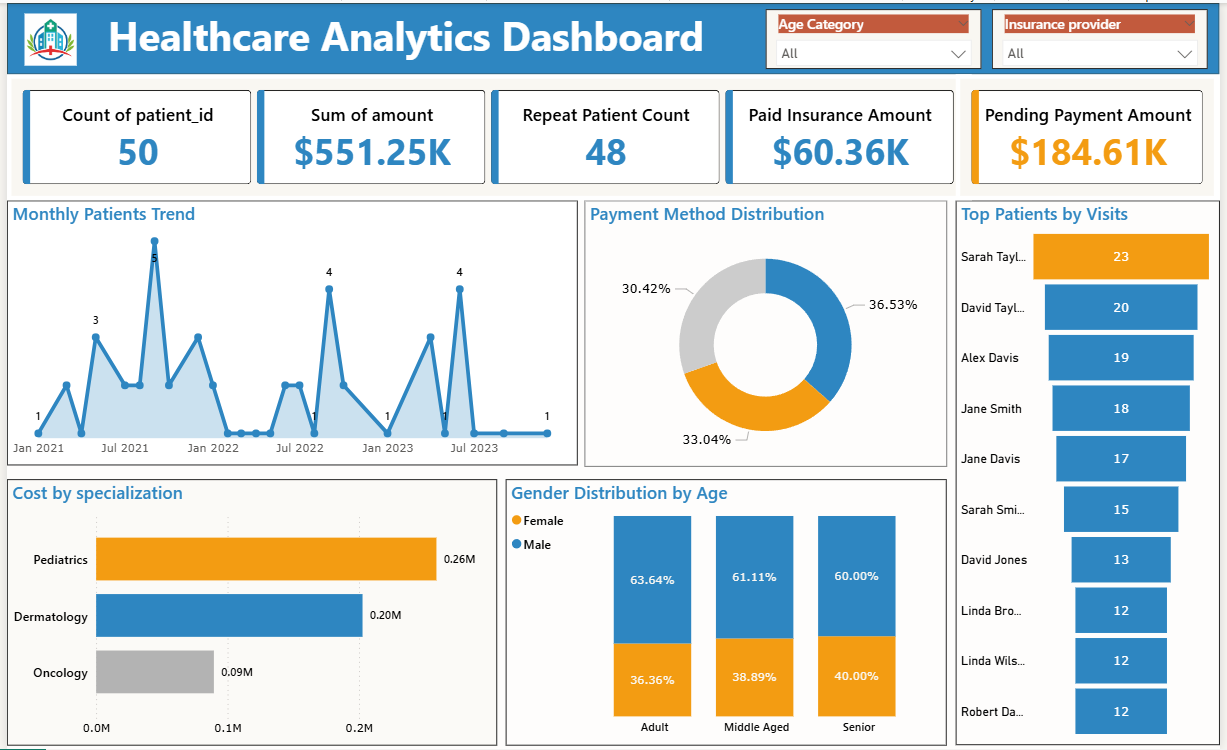

What the dashboard file says about the page in this screenshot:
{"tool":"powerbi","page":{"name":"Page 1","canvas":[1300,800],"ordinal":0},"visuals":[{"type":"shape","box":[0,0,1300.3,76.7],"z":0},{"type":"barChart","title":"Cost by specialization","fields":{"Category":["doctors.specialization"],"Y":["Sum(treatments.cost)"]},"box":[0,510.1,525.4,285.7],"z":1000},{"type":"funnel","title":"Top Patients by Visits","fields":{"Category":["doctors.full_name"],"Y":["Count(appointments.patient_id)"]},"box":[1017.4,211.8,282.9,583.9],"z":2000},{"type":"donutChart","title":"Payment Method Distribution","fields":{"Category":["billing.payment_method"],"Y":["Sum(billing.amount)"]},"box":[618.8,211.8,388.8,285.7],"z":3000},{"type":"areaChart","title":"Monthly Patients Trend","fields":{"Category":["patients.registration_date.Variation.Date Hierarchy.Year","patients.registration_date.Variation.Date Hierarchy.Month"],"Y":["CountNonNull(patients.patient_id)"]},"box":[0,211.8,611.8,284.3],"z":4000},{"type":"hundredPercentStackedColumnChart","title":"Gender Distribution by Age","fields":{"Category":["patients.age_category"],"Y":["CountNonNull(patients.gender)"],"Series":["patients.gender"]},"box":[535.2,510.1,472.5,285.7],"z":5000},{"type":"textbox","box":[103.1,0,669,76.7],"z":7000},{"type":"cardVisual","fields":{"Data":["CountNonNull(patients.patient_id)","Sum(billing.amount)","appointments.Repeat Patient Count","appointments.Paid Insurance Amount"]},"box":[0,76.7,1034.1,135.2],"z":8000},{"type":"slicer","fields":{"Values":["patients.insurance_provider"]},"box":[1056.4,7,231.3,64.1],"z":9000},{"type":"slicer","fields":{"Values":["patients.age_category"]},"box":[813.9,7,231.3,64.1],"z":10000},{"type":"cardVisual","fields":{"Data":["appointments.Pending Payment Amount"]},"box":[1017.4,76.7,282.9,135.2],"z":11000},{"type":"image","box":[18.1,8.4,55.7,62.7],"z":11001}]}

Visuals, with their boxes in screenshot pixels (x1, y1, x2, y2), scaled from the page's 1300x800 canvas onto the 1227x750 screenshot:
shape: <bbox>0, 0, 1226, 72</bbox>
"Cost by specialization" barChart: <bbox>0, 478, 496, 746</bbox>
"Top Patients by Visits" funnel: <bbox>960, 199, 1226, 746</bbox>
"Payment Method Distribution" donutChart: <bbox>584, 199, 951, 466</bbox>
"Monthly Patients Trend" areaChart: <bbox>0, 199, 577, 465</bbox>
"Gender Distribution by Age" hundredPercentStackedColumnChart: <bbox>505, 478, 951, 746</bbox>
textbox: <bbox>97, 0, 729, 72</bbox>
cardVisual - CountNonNull(patients.patient_id) x Sum(billing.amount): <bbox>0, 72, 976, 199</bbox>
slicer - patients.insurance_provider: <bbox>997, 7, 1215, 67</bbox>
slicer - patients.age_category: <bbox>768, 7, 987, 67</bbox>
cardVisual - appointments.Pending Payment Amount: <bbox>960, 72, 1226, 199</bbox>
image: <bbox>17, 8, 70, 67</bbox>
